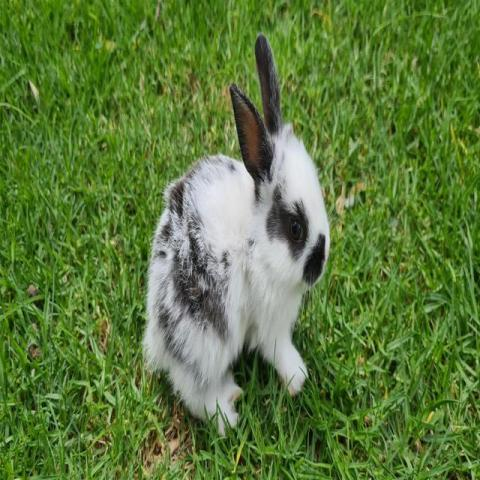small_animal: (139, 31, 332, 436)
